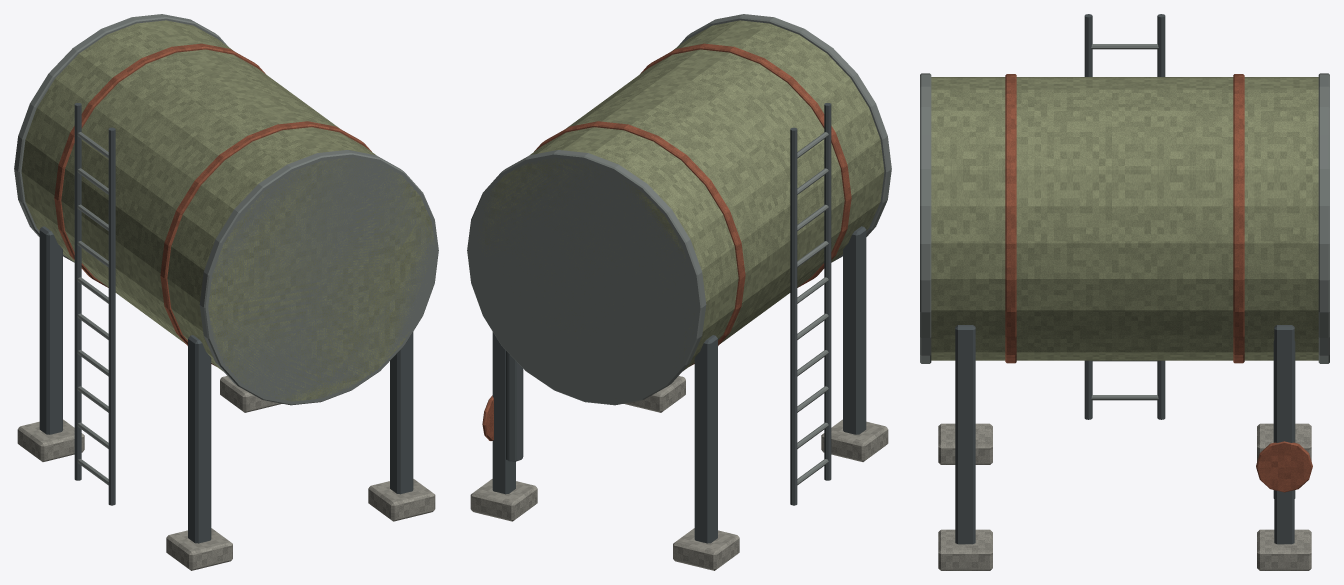
3 renders of one model, left to right at view 1: azimuth 30°, elevation 25°; view 2: azimuth 150°, elevation 25°; view 3: azimuth 270°, elevation 25°, orthographic. The views are drawn at different scales.
Parts seen in each view (by area): view 1: ST2-B05_Mesh; view 2: ST2-B05_Mesh; view 3: ST2-B05_Mesh.
Part boxes in pixels (x1,y1,x2,y2): ST2-B05_Mesh: (14,14,438,570); ST2-B05_Mesh: (467,14,891,570); ST2-B05_Mesh: (920,14,1329,570).
Size of the model in its own units: 2.8 by 4.1 by 3.6.
